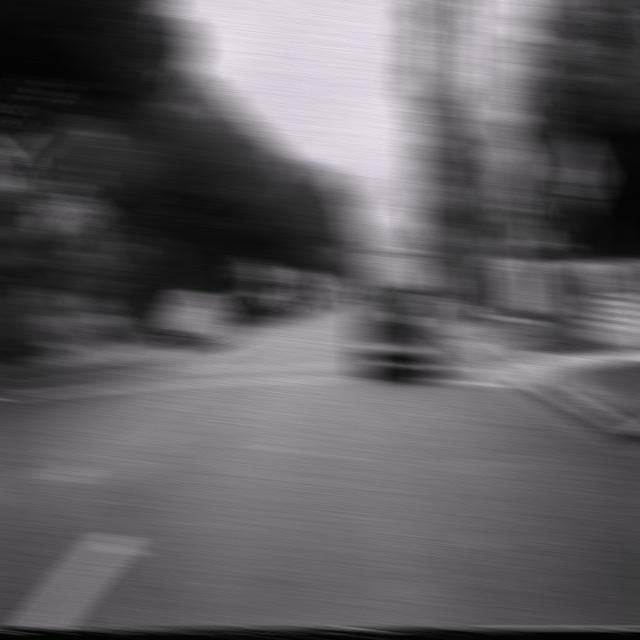pedestrianCrossing: (552, 132, 607, 214)
